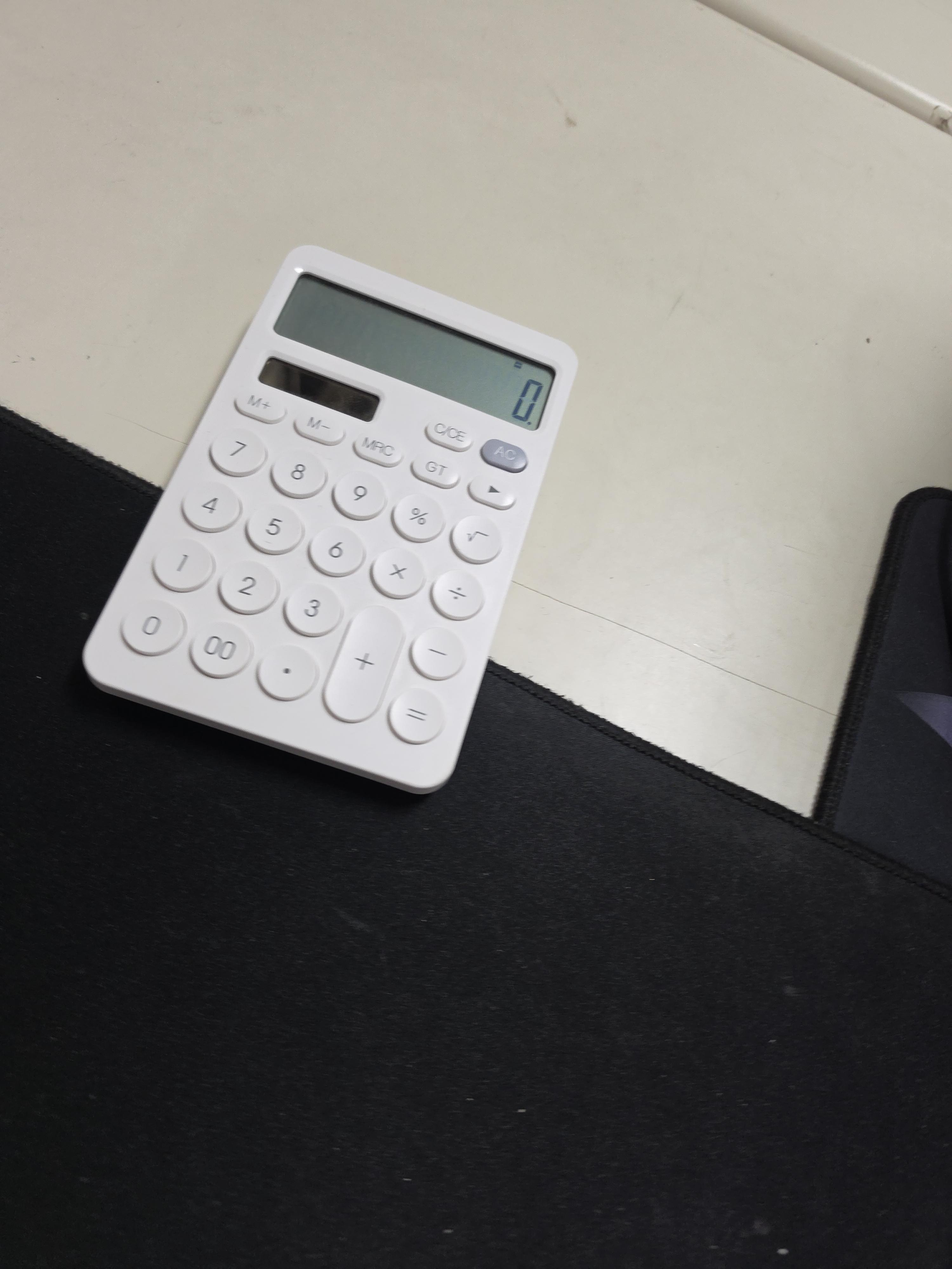calculator: (82, 245, 580, 796)
